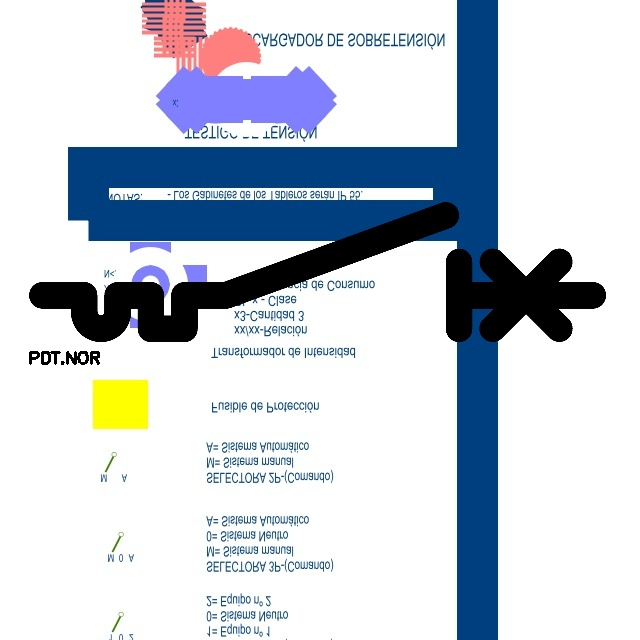interruptor_termomagnetico: (28, 201, 606, 343)
